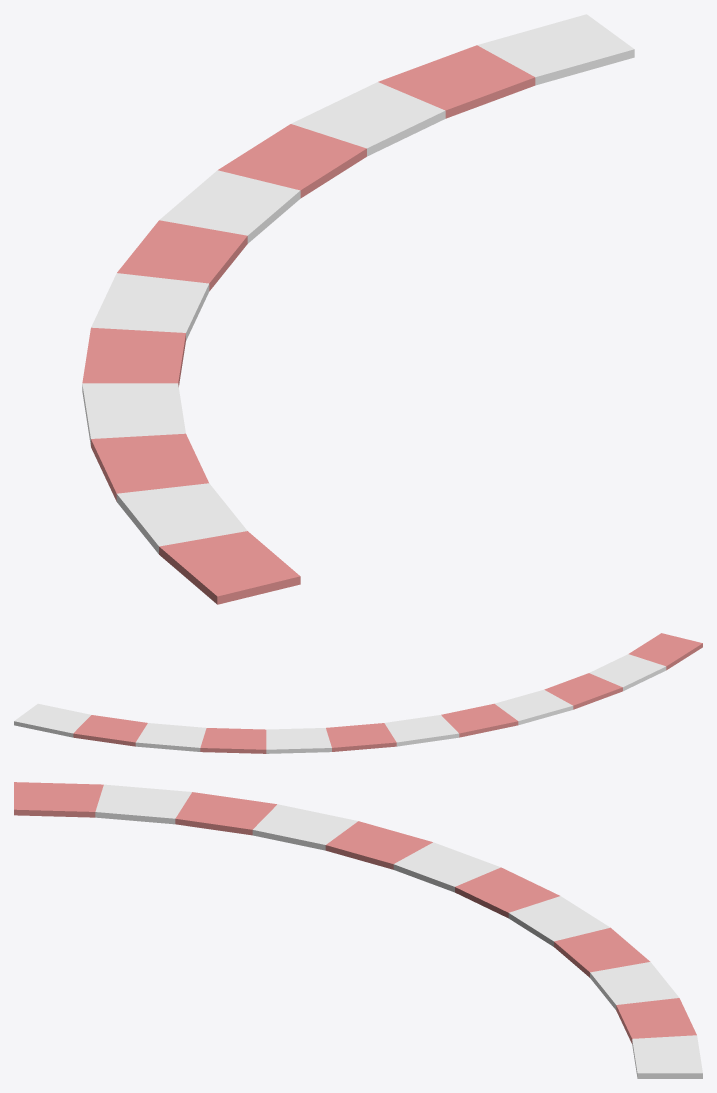
File: roadCornerLargeBorder.glb
The picture shows the model from 3 angles, top to bottom: view 1: azimuth 30°, elevation 25°; view 2: azimuth 150°, elevation 25°; view 3: azimuth 270°, elevation 25°; orthographic projection. The views are drawn at different scales.
Parts seen in each view (by area): view 1: roadCornerLargeBorder(Clone); view 2: roadCornerLargeBorder(Clone); view 3: roadCornerLargeBorder(Clone).
Part boxes in pixels (x1=…): roadCornerLargeBorder(Clone): x1=82, y1=14, x2=634, y2=604; roadCornerLargeBorder(Clone): x1=14, y1=633, x2=702, y2=753; roadCornerLargeBorder(Clone): x1=14, y1=782, x2=702, y2=1078.
Size of the model in its own units: 2.21 by 0.02 by 2.21.
